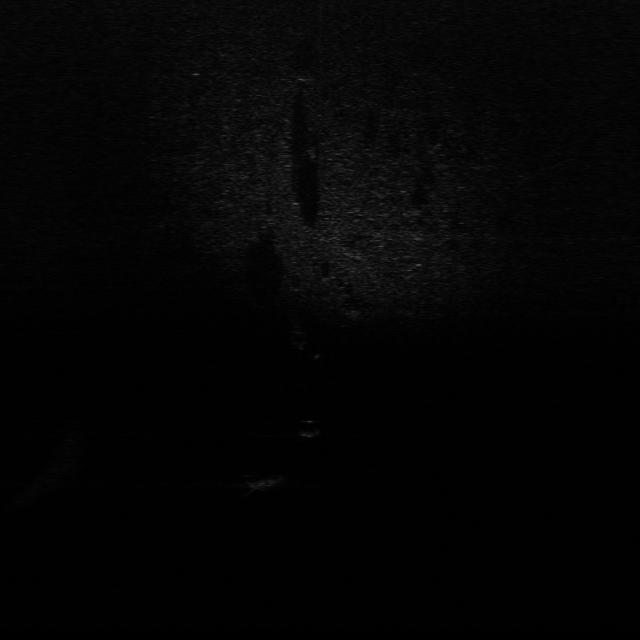ball: (294, 416, 324, 438)
circle cage: (238, 467, 290, 495)
human body: (284, 325, 326, 367)
